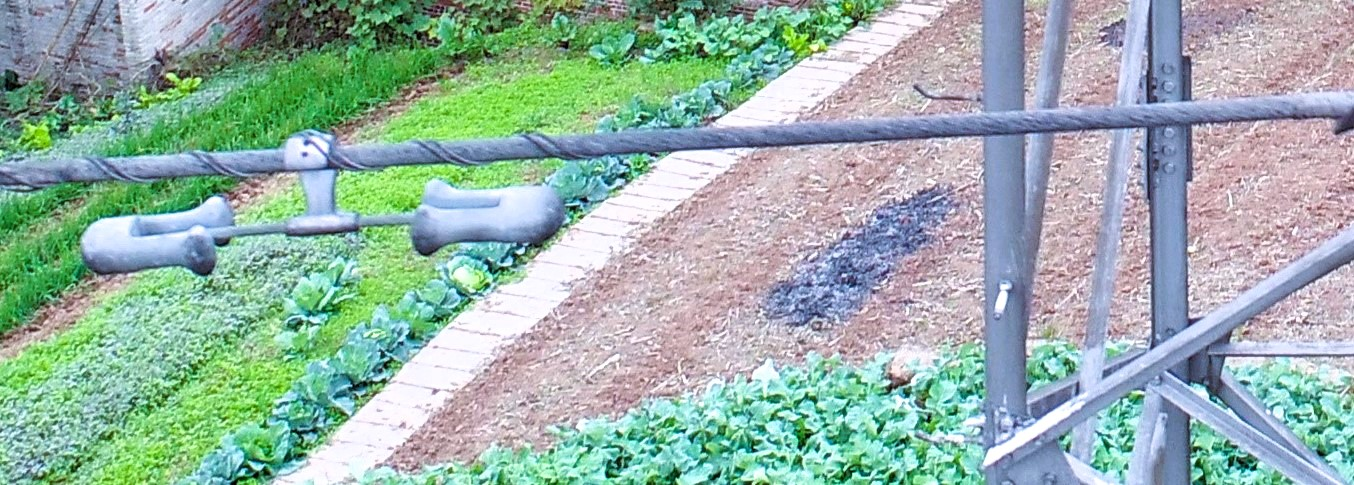Shockproof hammer: (67, 108, 582, 283)
